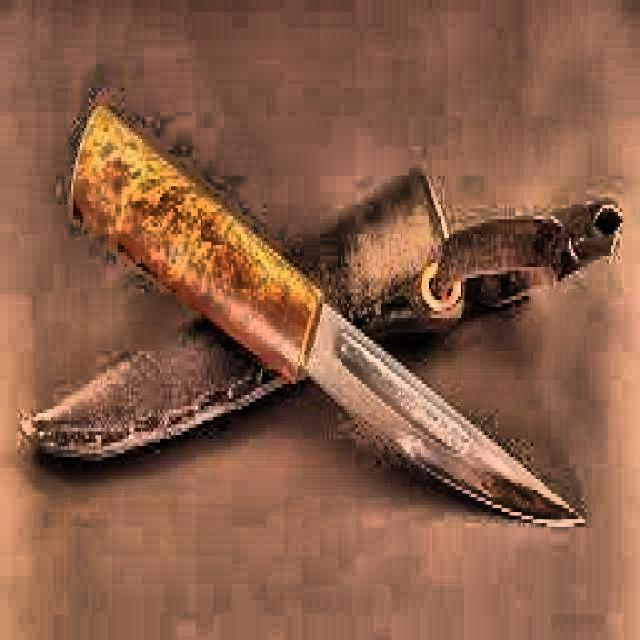knife: (65, 82, 592, 546)
